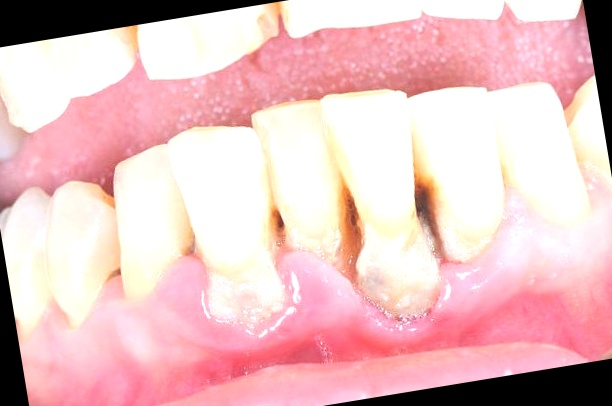Gingivitis: (185, 318, 363, 384)
